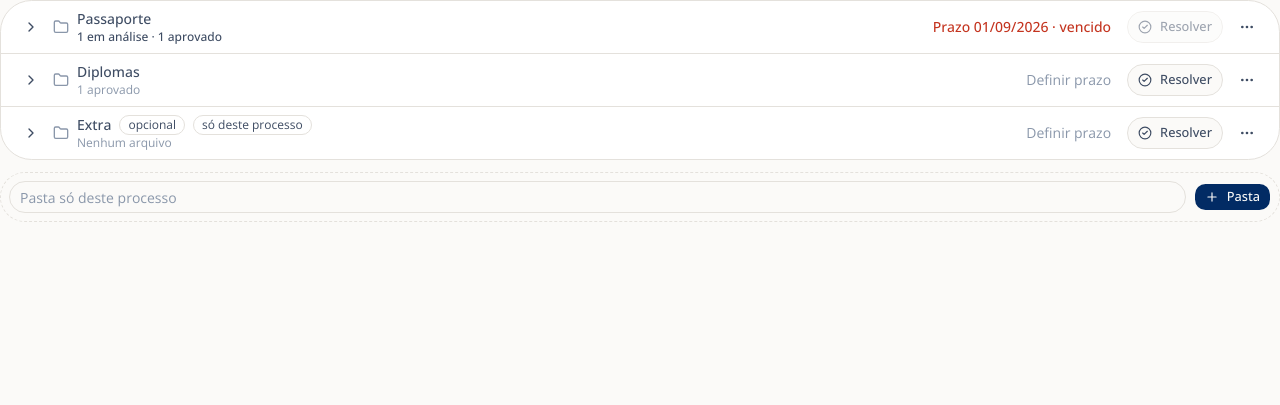
DocumentosDoProcesso › abre a pasta no lugar e mostra os arquivos
The width and height of the screenshot is (1280, 405).
Click the button named "Abrir Passaporte": coordinates (31, 27) [17, 13, 45, 41]
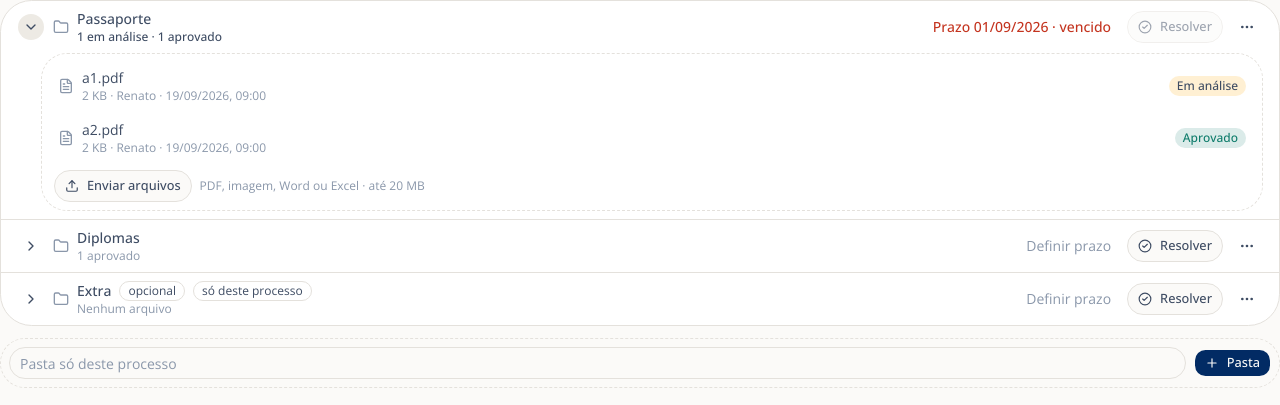
Expected: the text "a1.pdf" is shown, [82, 68, 123, 87]
Expected: the text "Em análise" is shown, [1169, 76, 1246, 96]
